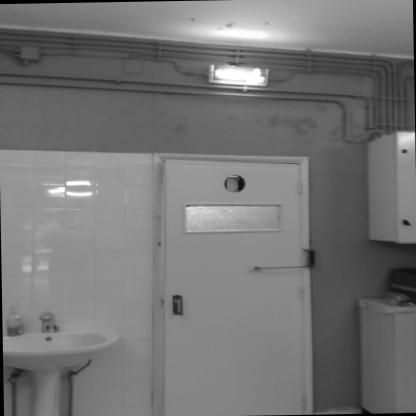closed: (143, 145, 327, 416)
